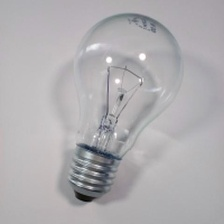light_bulb: (57, 8, 186, 208)
